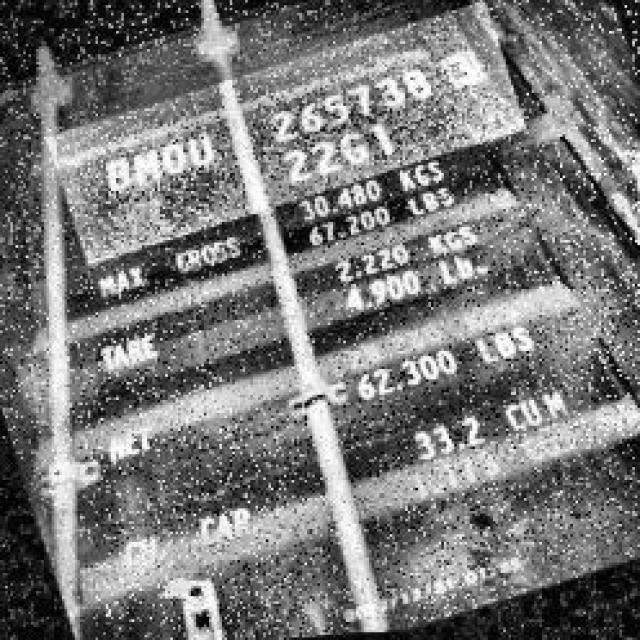ISO: (285, 110, 402, 186)
container_number: (101, 41, 466, 200)
